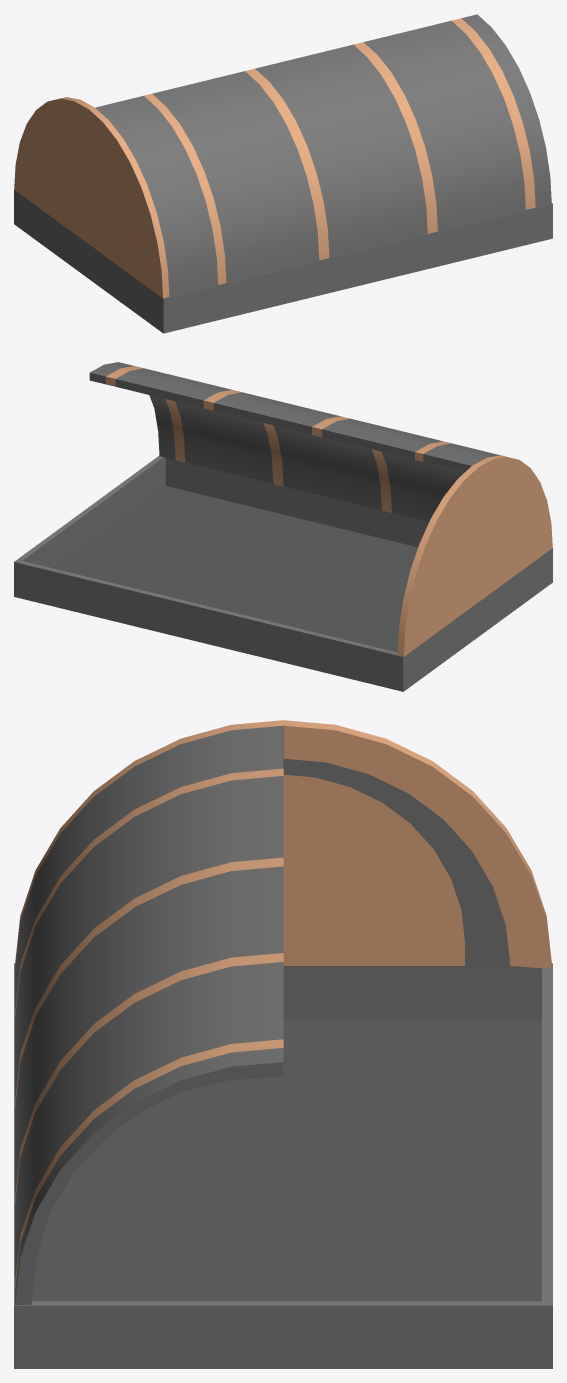
Rendered from cnc area.gltf.
The picture shows the model from 3 angles, top to bottom: view 1: azimuth 30°, elevation 25°; view 2: azimuth 150°, elevation 25°; view 3: azimuth 270°, elevation 25°; orthographic projection. The views are drawn at different scales.
Parts seen in each view (by area): view 1: Circle, Cube; view 2: Cube, Circle; view 3: Cube, Circle.
Boxes of the visible parts, <box> form: Circle: <box>14,14,551,298</box>; Cube: <box>14,189,552,333</box>; Cube: <box>14,456,552,691</box>; Circle: <box>89,362,552,656</box>; Cube: <box>14,963,552,1368</box>; Circle: <box>15,720,551,1304</box>.
Bounding box in the file's own units: 21.74 × 9.05 × 14.45.
